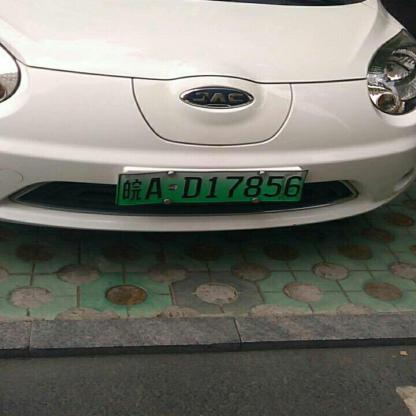lp: (117, 170, 307, 202)
